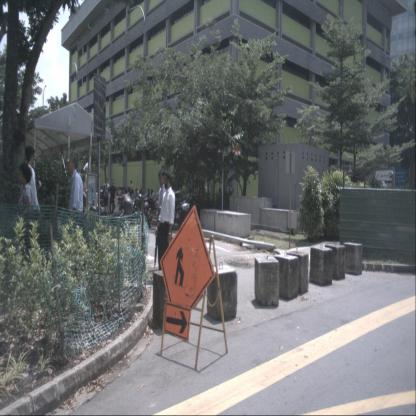human-pedestrian-adult: (11, 163, 35, 281), (20, 146, 42, 270), (154, 172, 175, 294), (66, 155, 84, 290), (156, 168, 169, 282), (103, 177, 110, 215), (109, 178, 116, 215), (149, 189, 157, 211), (145, 189, 151, 209), (129, 181, 134, 204), (135, 188, 139, 206)
vehicle-motorcycle: (83, 196, 134, 246), (174, 193, 192, 240), (120, 194, 142, 228), (142, 196, 152, 228)
